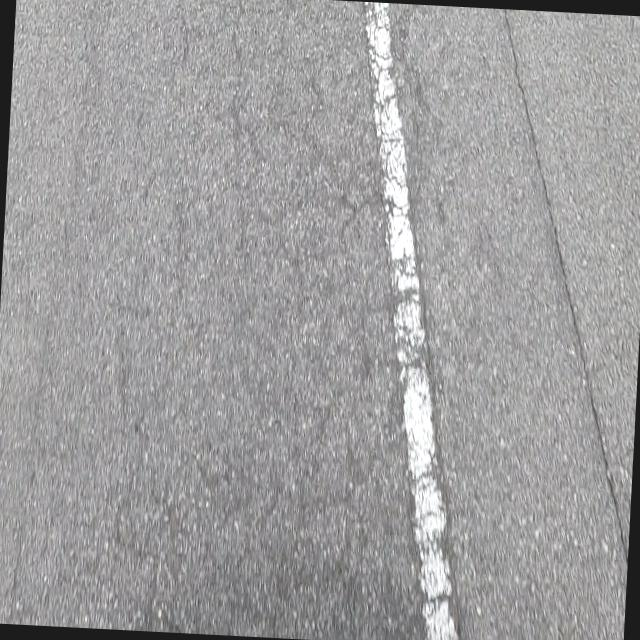Retak-Memanjang: (501, 9, 628, 576)
